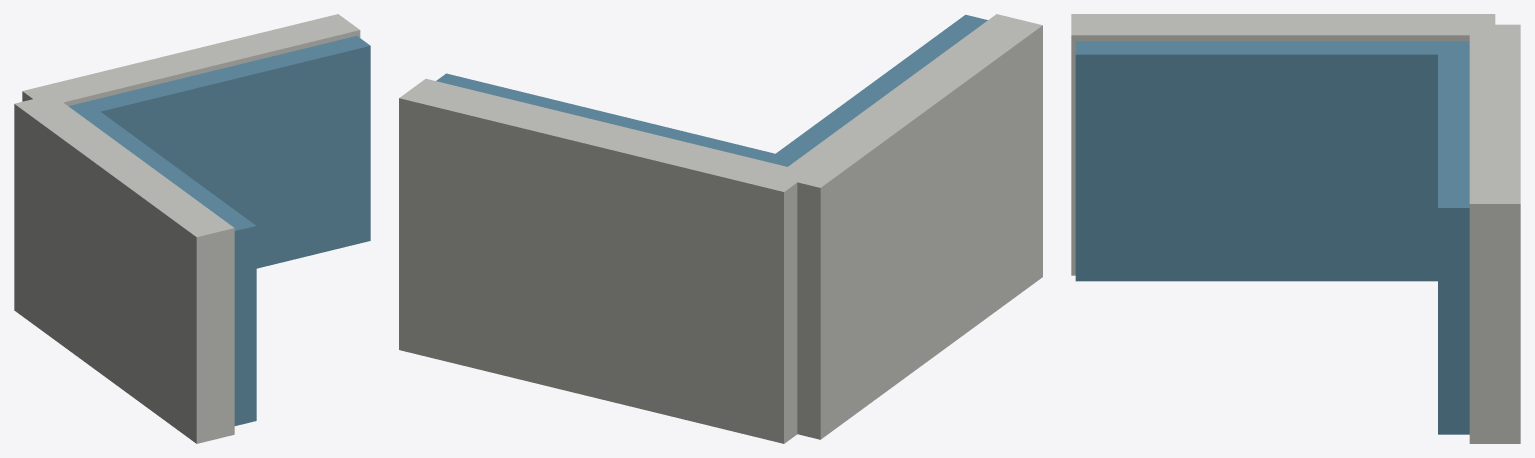
Rendered from american-football-stadium-kit-padded-wall-corner-8c235eec__22324.glb.
The picture shows the model from 3 angles, left to right: view 1: azimuth 30°, elevation 25°; view 2: azimuth 150°, elevation 25°; view 3: azimuth 270°, elevation 25°; orthographic projection. The views are drawn at different scales.
Visible parts, largest first — view 1: padded-wall-corner; view 2: padded-wall-corner; view 3: padded-wall-corner.
Part boxes in pixels (x1,y1,x2,y2): padded-wall-corner: (14, 14, 370, 443); padded-wall-corner: (399, 14, 1042, 443); padded-wall-corner: (1071, 14, 1520, 443).
Size of the model in its own units: 2.12 by 1.25 by 2.12.
